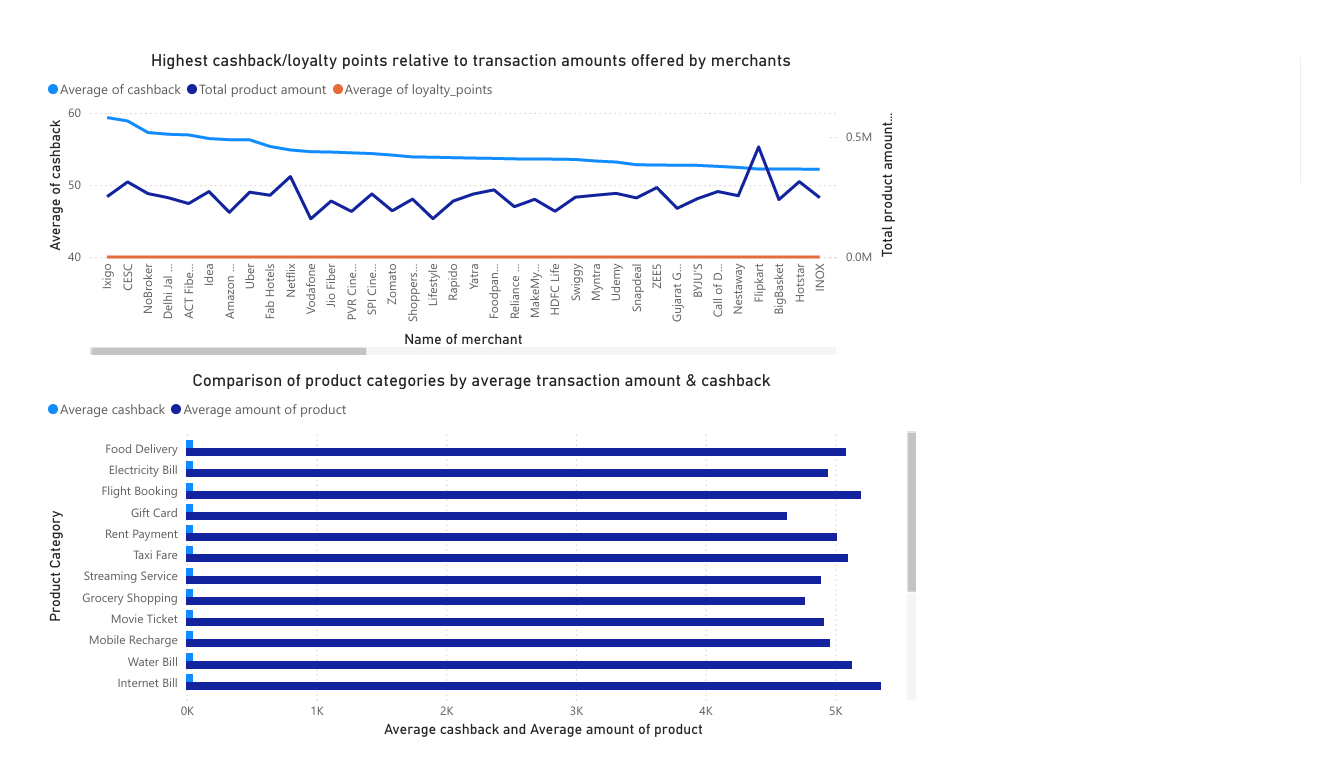

The dashboard page shown, as its layout file describes it:
{"tool":"powerbi","page":{"name":"Comparative analysis","canvas":[1280,720],"ordinal":7},"visuals":[{"type":"lineChart","title":"Highest cashback/loyalty points relative to transaction amounts offered by merchants","fields":{"Category":["digital_wallet_transactions.merchant_name"],"Y":["Avg(digital_wallet_transactions.cashback)"],"Y2":["Sum(digital_wallet_transactions.product_amount)","Avg(digital_wallet_transactions.loyalty_points)"]},"box":[20.8,28.3,858,309.9],"z":0},{"type":"clusteredBarChart","title":"Comparison of product categories by average transaction amount & cashback","fields":{"Category":["digital_wallet_transactions.product_category"],"Y":["Avg(digital_wallet_transactions.cashback)","Avg(digital_wallet_transactions.product_amount)"]},"box":[20.8,347.7,878.7,372.3],"z":1000}]}

Visuals, with their boxes in screenshot pixels (x1, y1, x2, y2), scaled from the page's 1280x720 canvas onto the 1320x763 screenshot:
"Highest cashback/loyalty points relative to transaction amounts offered by merchants" lineChart: detection(21, 30, 906, 358)
"Comparison of product categories by average transaction amount & cashback" clusteredBarChart: detection(21, 368, 928, 762)
